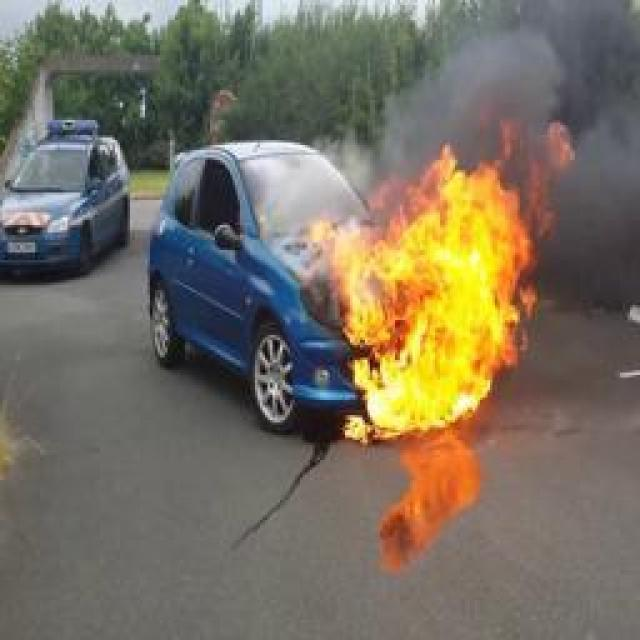Fire: (315, 109, 580, 442)
